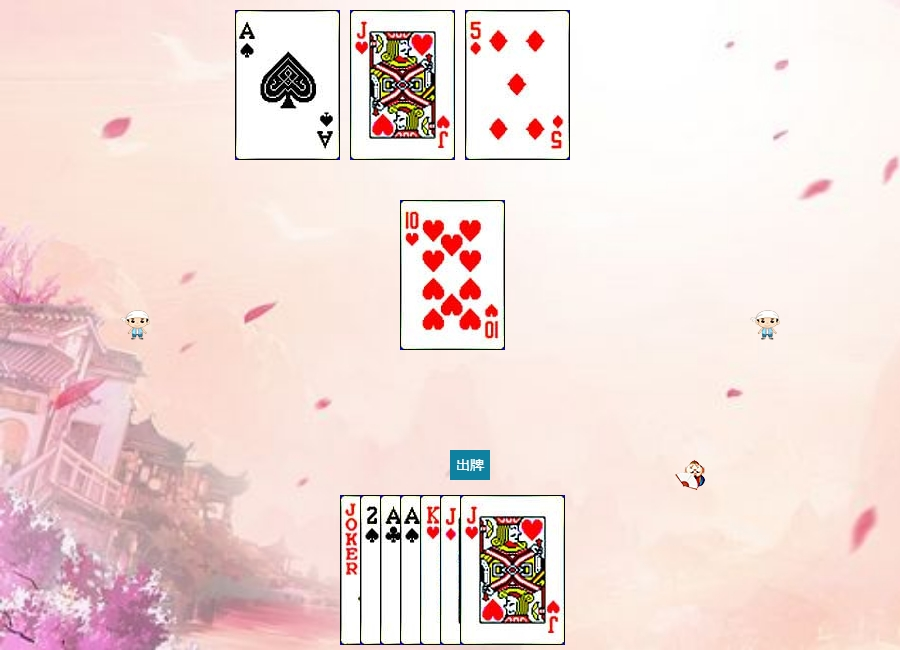10~3: (400, 200, 505, 350)
11~1: (440, 495, 545, 645)
11~3: (350, 10, 455, 160), (460, 495, 565, 645)
13~3: (420, 495, 525, 645)
14~2: (380, 495, 485, 645)
14~4: (235, 10, 340, 160), (400, 495, 505, 645)
15~4: (360, 495, 465, 645)
18~4: (340, 495, 445, 645)
5~1: (465, 10, 570, 160)
